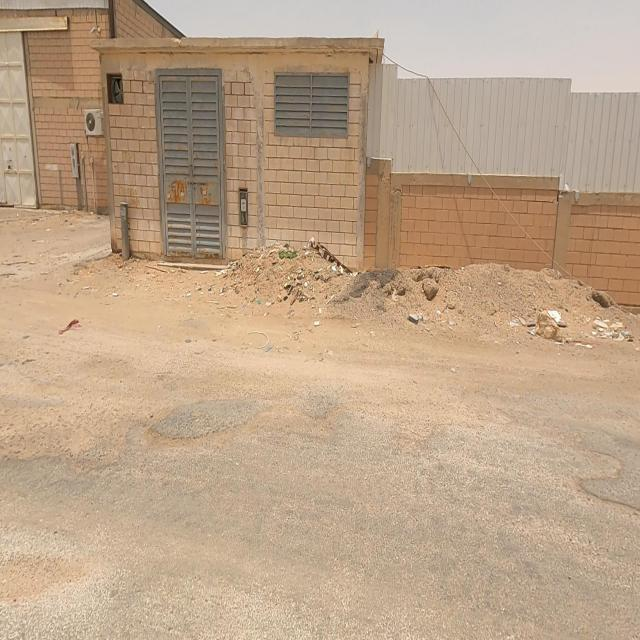debris: (268, 203, 382, 304), (492, 269, 596, 357), (364, 254, 444, 364), (559, 282, 640, 371), (266, 258, 332, 326), (262, 216, 308, 276), (204, 248, 247, 278)
